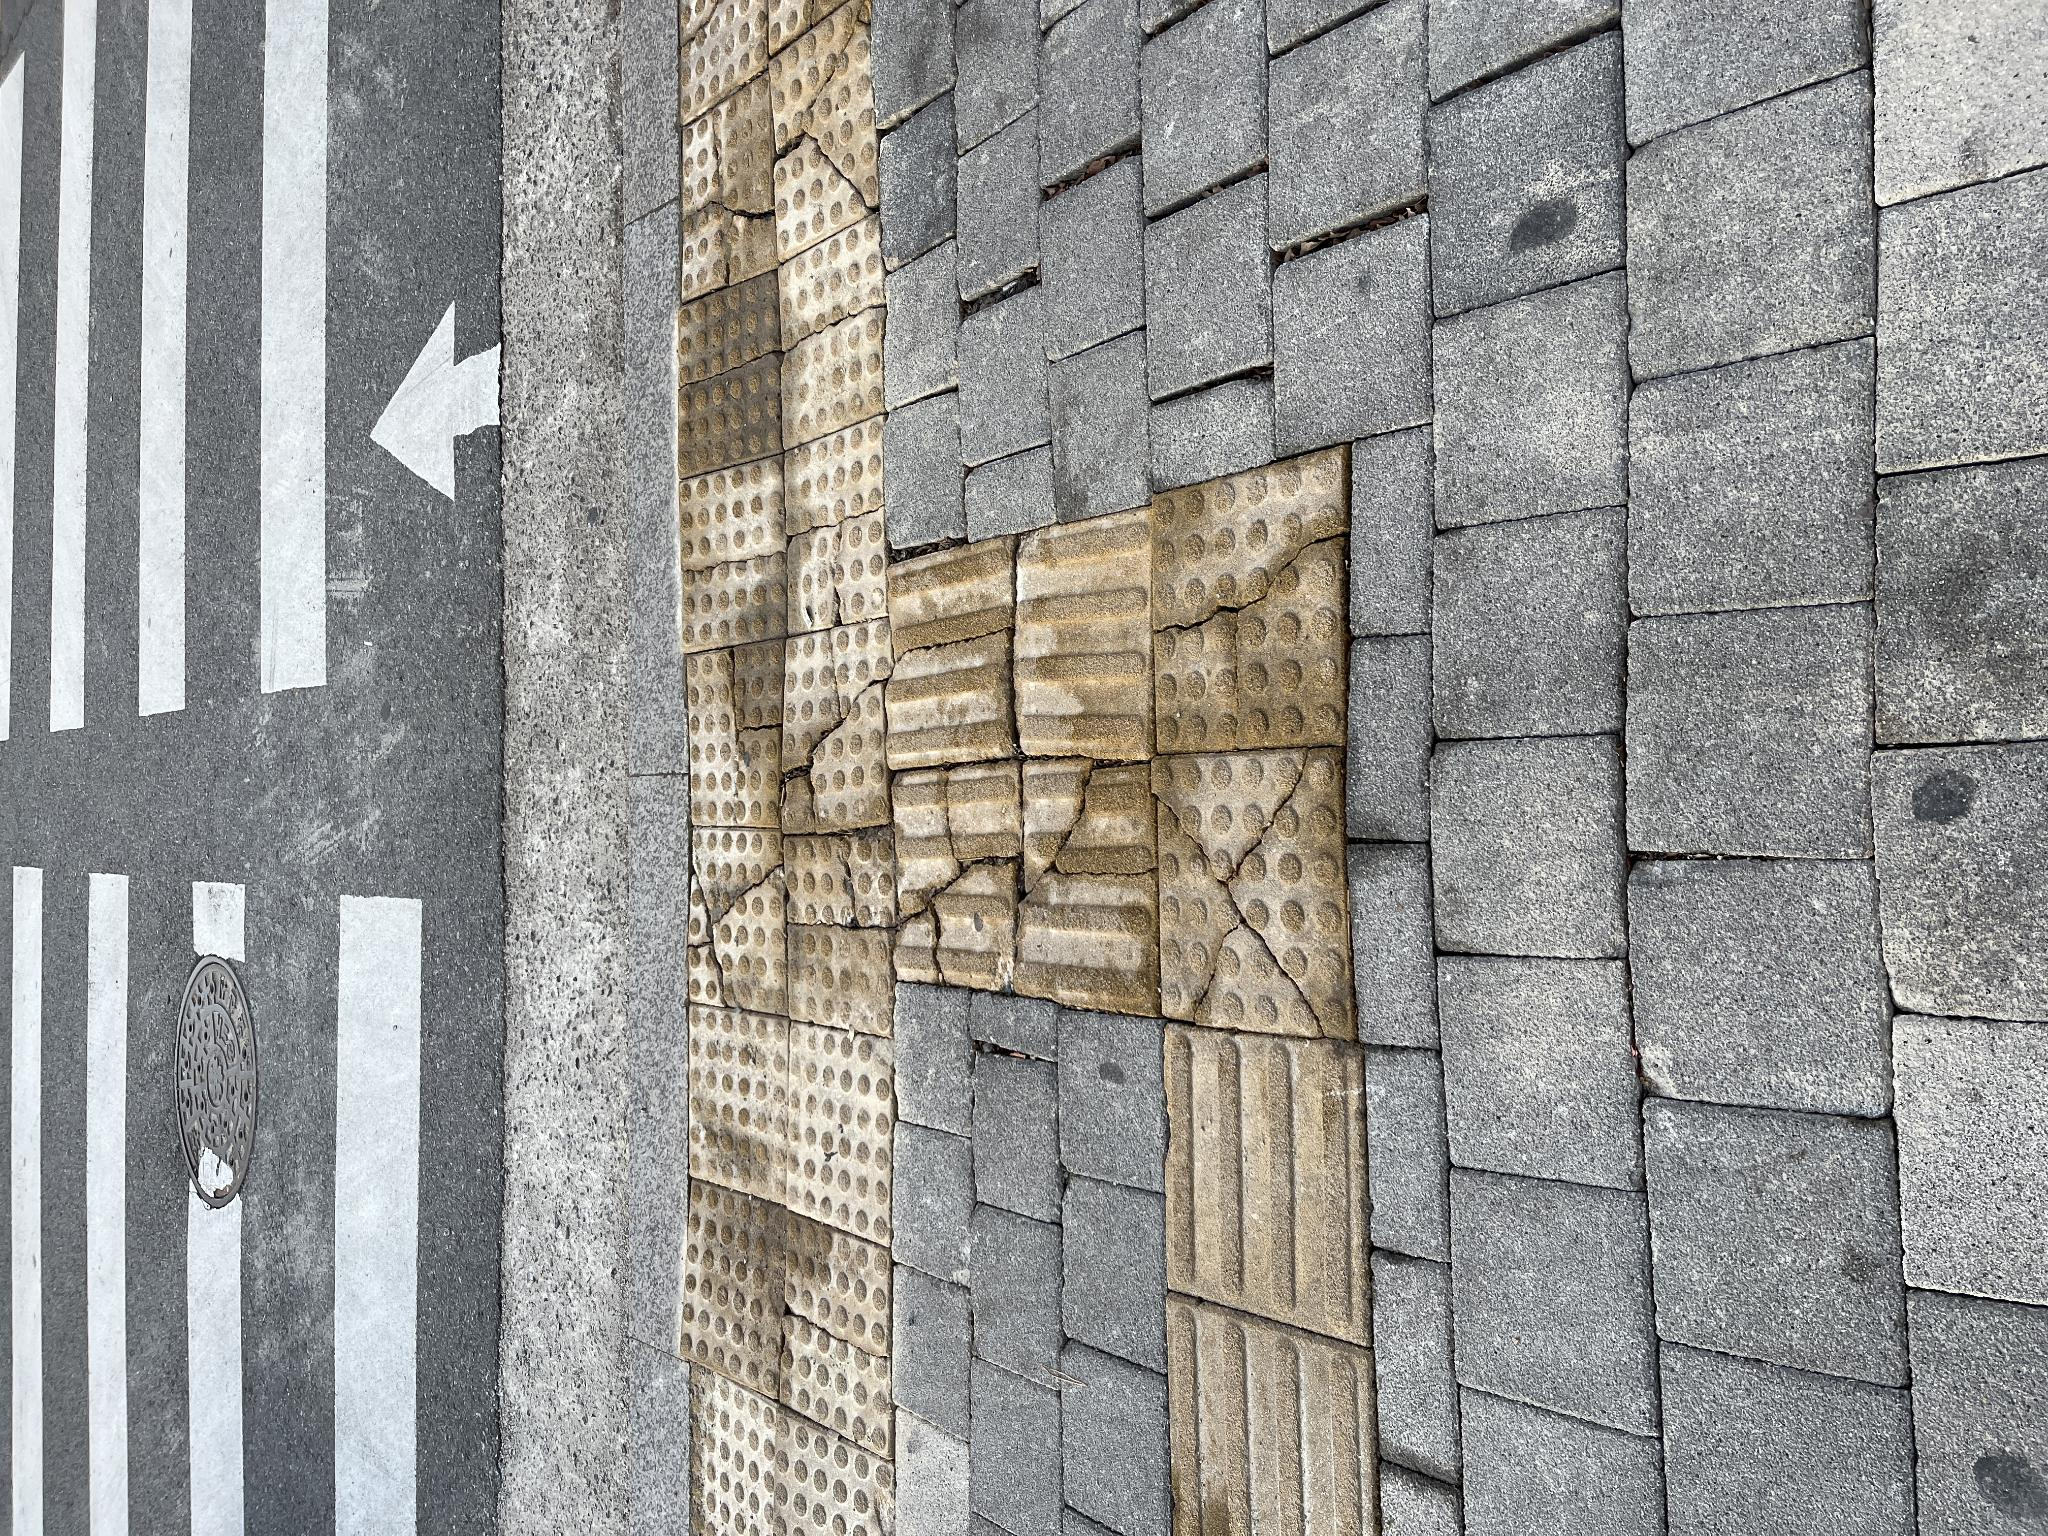Stop block broken: (497, 1154, 785, 1350), (785, 1155, 1087, 1341), (1276, 770, 1535, 878), (77, 781, 324, 889), (1089, 779, 1321, 881), (705, 783, 914, 887), (1235, 682, 1463, 778), (502, 786, 703, 891), (901, 787, 1116, 886), (884, 679, 1079, 783), (1061, 681, 1264, 779), (522, 691, 708, 786), (711, 687, 893, 781)
Stop block normal: (292, 787, 513, 892), (332, 691, 531, 786)
Straight block broken: (521, 1018, 776, 1157), (769, 887, 998, 1020), (547, 892, 771, 1015)
Straight block normal: (192, 1168, 510, 1365), (782, 1020, 1024, 1147)
